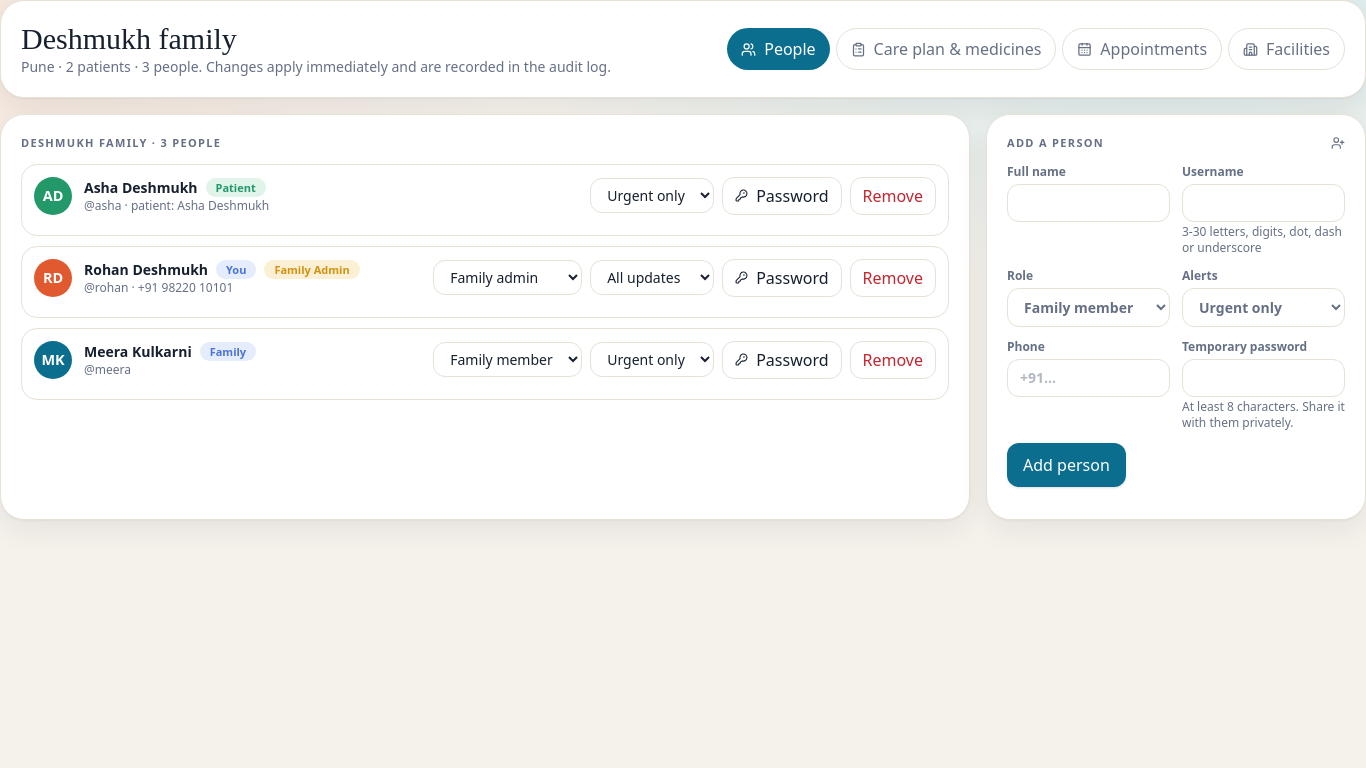
Scenario: family admin console › surfaces the last-admin safeguard from the server
Select "Family member" in the dropdown named "Role of Rohan Deshmukh" at (508, 278), box [433,260,582,295]
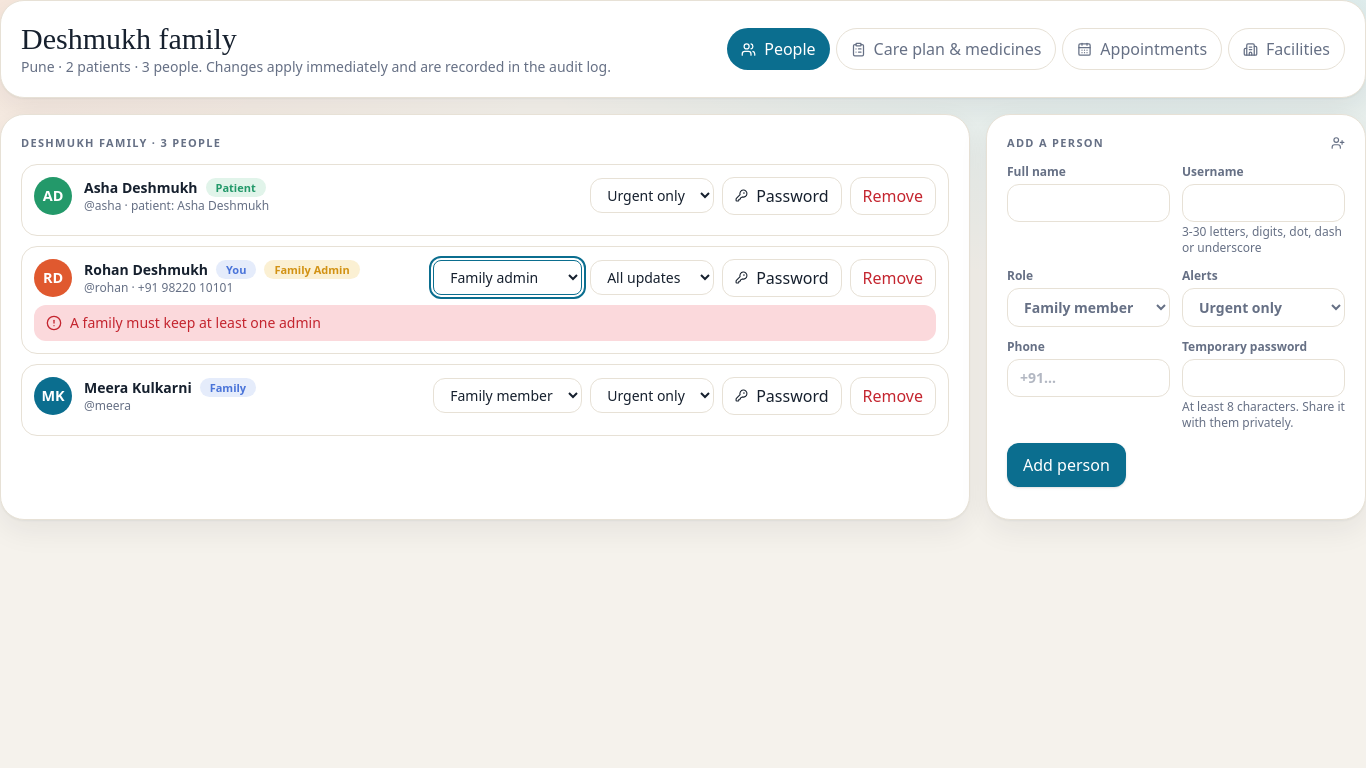
Check: the message shows "at least one admin", box [70,312,321,332]
